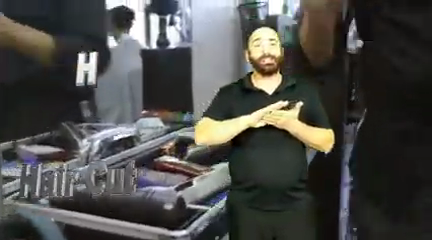H: (251, 98, 305, 134)
